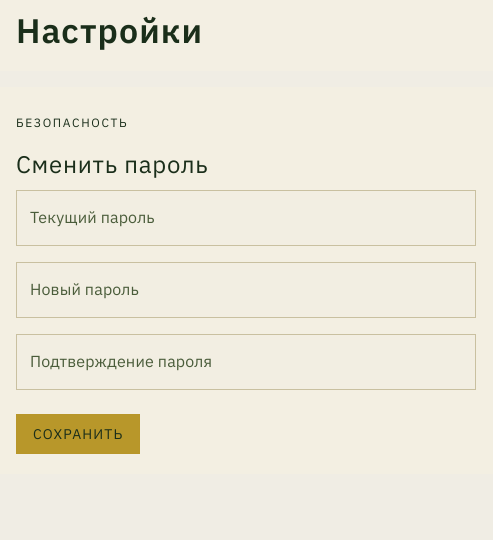
it: SettingsPage › validates password form fields correctly
The image size is (493, 540).
Click the button "Сохранить" at (78, 434), box [16,414,140,454]
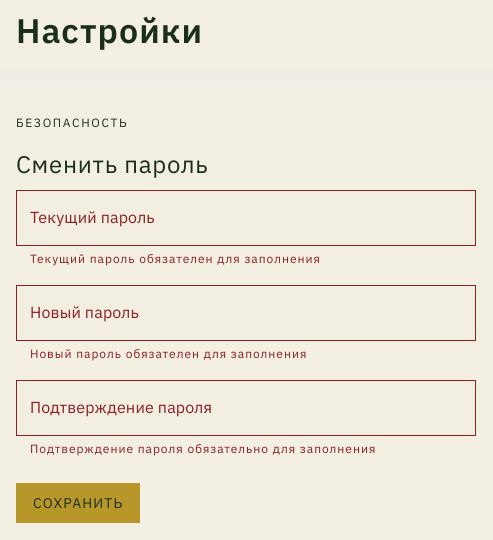
Expected: the text "Текущий пароль обязателен для заполнения" is shown, [30,251,321,266]
Expected: the text "Новый пароль обязателен для заполнения" is shown, [30,346,307,361]
Expected: the text "Подтверждение пароля обязательно для заполнения" is shown, [30,441,376,456]
type too short password
Type "123" into the password field labelled "Текущий пароль" at (246, 218), box [16,190,476,246]
Type "123" into the password field labelled "Новый пароль" at (246, 313), box [16,285,476,341]
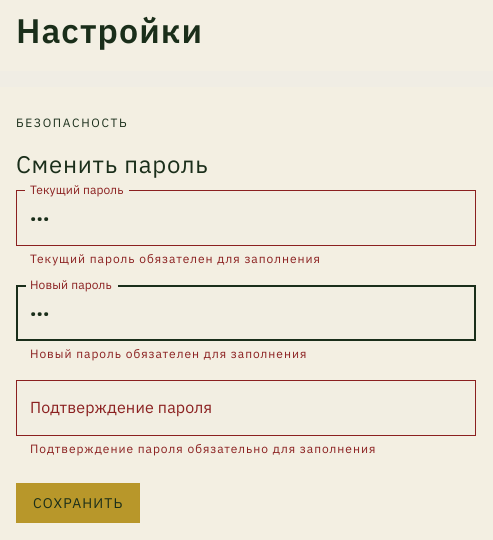
Click the button "Сохранить" at (78, 503), box [16,483,140,523]
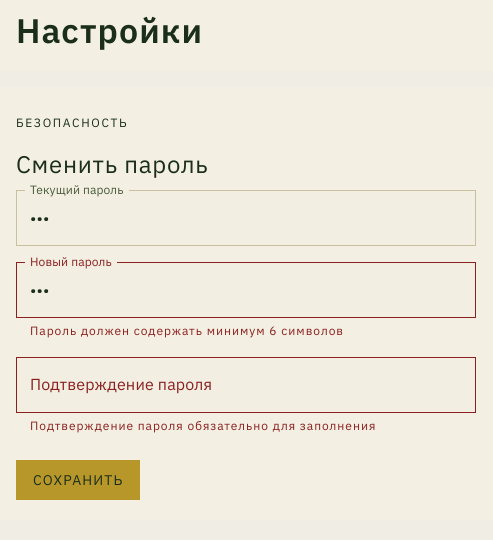
Expected: the text "Пароль должен содержать минимум 6 символов" is shown, [30,323,344,338]
type mismatched confirm password
Type "456" into the password field labelled "Новый пароль" at (246, 290), box [16,262,476,318]
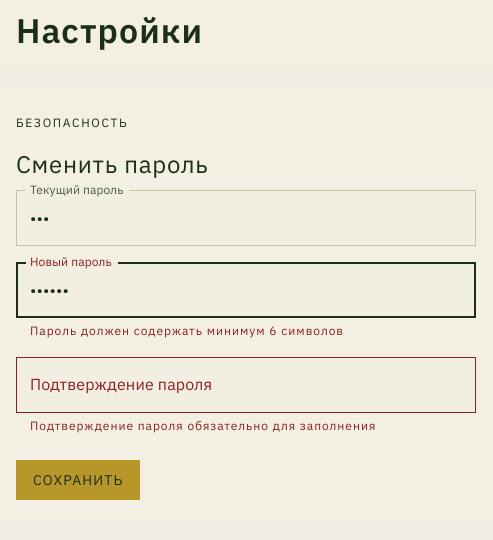
Type "654321" into the password field labelled "Подтверждение пароля" at (246, 385), box [16,357,476,413]
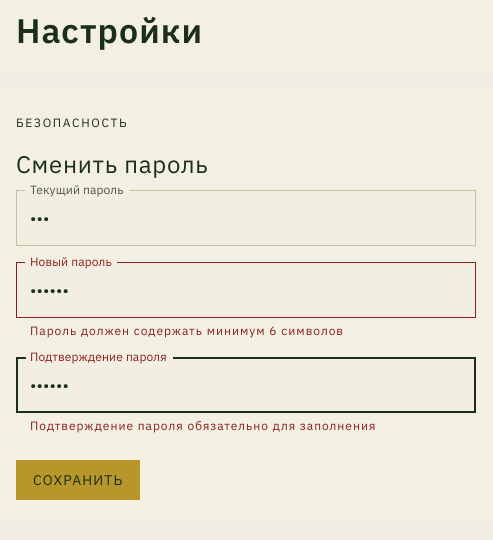
Click the button "Сохранить" at (78, 480), box [16,460,140,500]
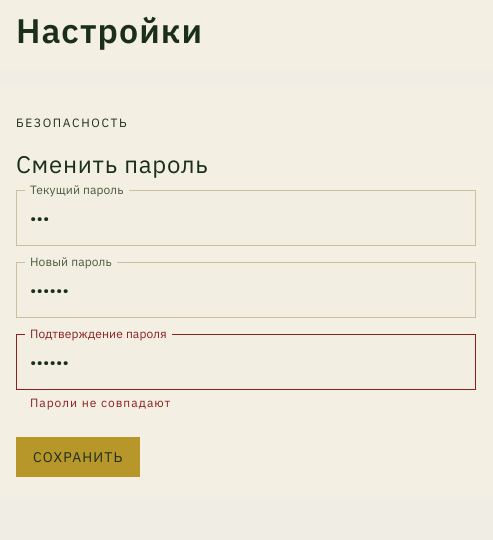
Expected: the text "Пароли не совпадают" is shown, [30,395,171,410]
